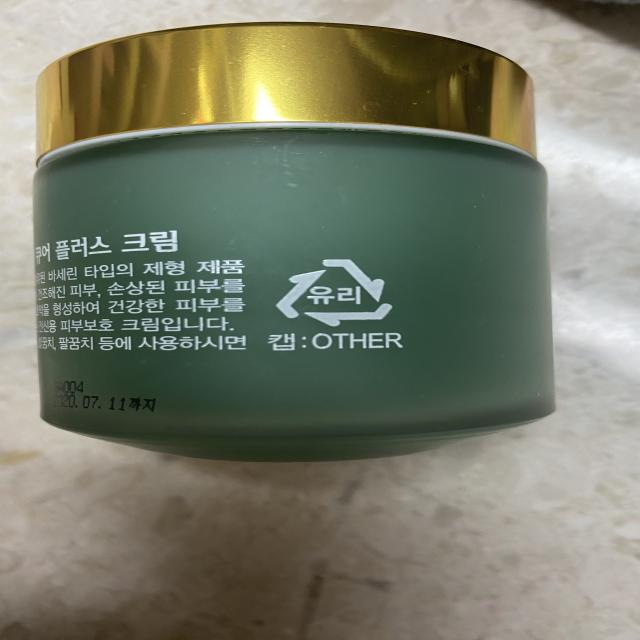Glass: (267, 253, 401, 331)
